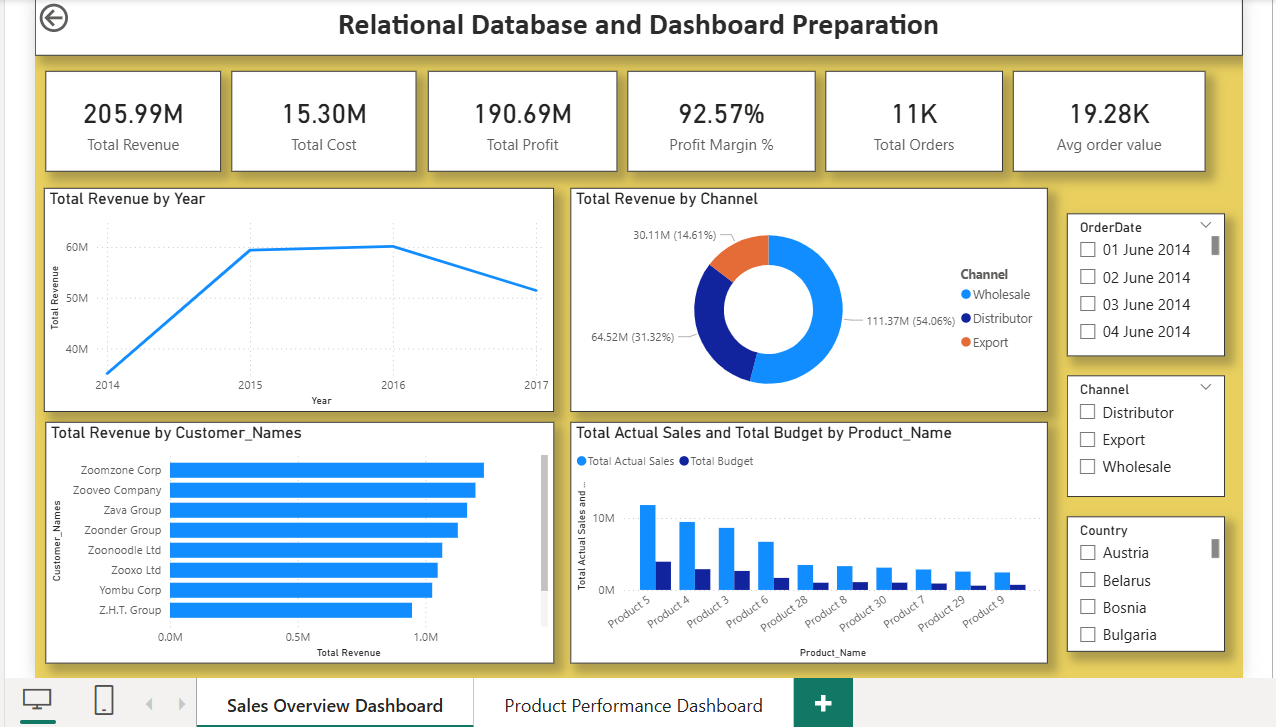

What the dashboard file says about the page in this screenshot:
{"tool":"powerbi","page":{"name":"Sales Overview Dashboard","canvas":[1280,720],"ordinal":0},"visuals":[{"type":"card","fields":{"Values":["DAX Measure.Total Revenue"]},"box":[11.3,76.1,186.2,106.9],"z":0},{"type":"card","fields":{"Values":["DAX Measure.Total Cost"]},"box":[208.9,76.1,195.9,106.9],"z":1000},{"type":"card","fields":{"Values":["DAX Measure.Total Profit"]},"box":[416.1,76.1,200.8,106.9],"z":2000},{"type":"card","fields":{"Values":["DAX Measure.Profit Margin %"]},"box":[628.3,76.1,199.2,106.9],"z":3000},{"type":"card","fields":{"Values":["DAX Measure.Total Orders"]},"box":[838.8,76.1,187.8,106.9],"z":4000},{"type":"card","fields":{"Values":["DAX Measure.Avg order value"]},"box":[1036.3,76.1,204,106.9],"z":5000},{"type":"lineChart","fields":{"Category":["SalesOrder.OrderDate.Variation.Date Hierarchy.Year"],"Y":["DAX Measure.Total Revenue"]},"box":[9.5,200.4,540.8,237],"z":6000},{"type":"donutChart","fields":{"Category":["SalesOrder.Channel"],"Y":["DAX Measure.Total Revenue"]},"box":[567.8,200.4,505.8,237],"z":7000},{"type":"slicer","fields":{"Values":["SalesOrder.OrderDate"]},"box":[1094.3,227.5,167,151.1],"z":8000},{"type":"slicer","fields":{"Values":["SalesOrder.Channel"]},"box":[1094.3,399.2,167,128.8],"z":9000},{"type":"slicer","fields":{"Values":["Regions.Country"]},"box":[1094.3,548.8,167,143.2],"z":10000},{"type":"textbox","box":[0,0,1280.8,59.9],"z":11000},{"type":"clusteredBarChart","fields":{"Category":["Customers.Customer_Names"],"Y":["DAX Measure.Total Revenue"]},"box":[11.1,448.6,539.2,256.1],"z":12000},{"type":"actionButton","box":[0,0,100,40],"z":13000},{"type":"clusteredColumnChart","fields":{"Category":["Budgets2017.Product_Name"],"Y":["DAX Measure.Total Actual Sales","DAX Measure.Total Budget"]},"box":[567.8,448.6,505.8,256.1],"z":14000}]}

Visuals, with their boxes in screenshot pixels (x1, y1, x2, y2):
card - DAX Measure.Total Revenue: 41/66/217/167
card - DAX Measure.Total Cost: 228/66/414/167
card - DAX Measure.Total Profit: 424/66/615/167
card - DAX Measure.Profit Margin %: 626/66/815/167
card - DAX Measure.Total Orders: 825/66/1003/167
card - DAX Measure.Avg order value: 1013/66/1206/167
lineChart - SalesOrder.OrderDate.Variation.Date Hierarchy.Year x DAX Measure.Total Revenue: 39/183/552/408
donutChart - SalesOrder.Channel x DAX Measure.Total Revenue: 568/183/1048/408
slicer - SalesOrder.OrderDate: 1068/209/1226/352
slicer - SalesOrder.Channel: 1068/372/1226/494
slicer - Regions.Country: 1068/514/1226/650
textbox: 30/0/1244/50
clusteredBarChart - Customers.Customer_Names x DAX Measure.Total Revenue: 40/419/552/662
actionButton: 30/0/125/31
clusteredColumnChart - Budgets2017.Product_Name x DAX Measure.Total Actual Sales: 568/419/1048/662
